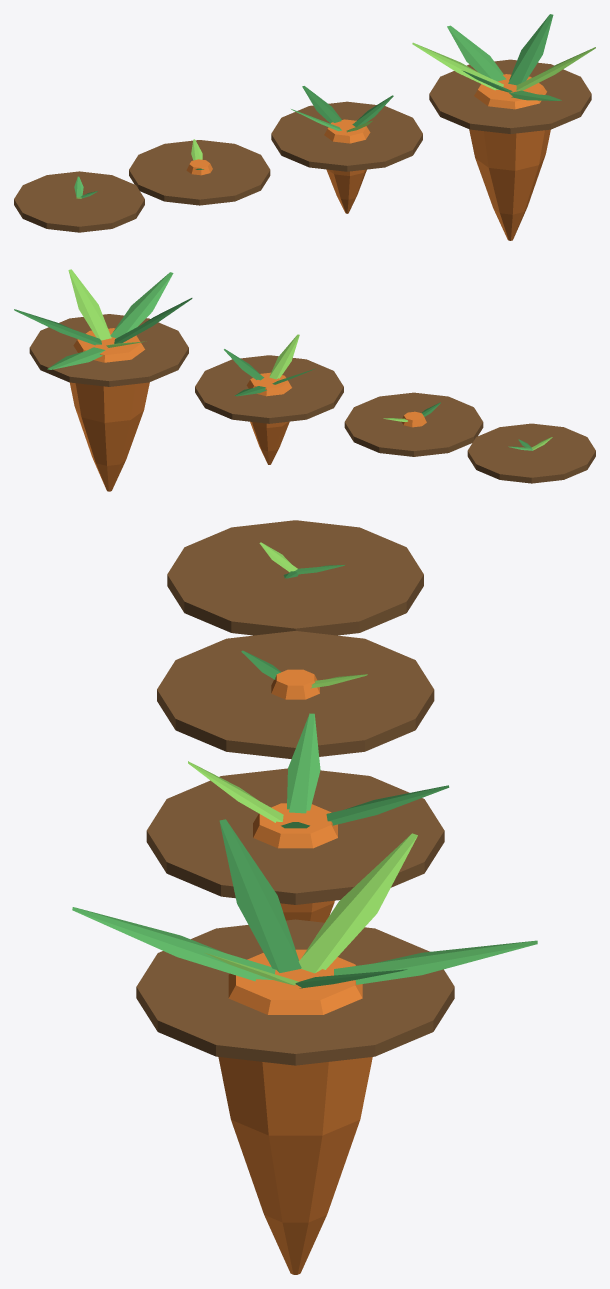
The model's file is HP3_Carrot_GrowthStages.fbx.
The picture shows the model from 3 angles, top to bottom: view 1: azimuth 30°, elevation 25°; view 2: azimuth 150°, elevation 25°; view 3: azimuth 270°, elevation 25°; orthographic projection. The views are drawn at different scales.
Visible parts, largest first — view 1: Soil_Marker_2, Soil_Marker_1, S3_Root, Soil_Marker_3, Soil_Marker_0, S2_Root, S3_Leaf_6, S3_Leaf_1, S3_Leaf_2, S3_Leaf_5, S2_Leaf_1, S3_Leaf_4 (+2 smaller); view 2: Soil_Marker_2, Soil_Marker_1, S3_Root, Soil_Marker_3, Soil_Marker_0, S2_Root, S3_Leaf_4, S3_Leaf_5, S3_Leaf_6, S3_Leaf_1, S3_Leaf_3, S2_Leaf_3 (+2 smaller); view 3: Soil_Marker_1, S3_Root, Soil_Marker_3, Soil_Marker_0, Soil_Marker_2, S3_Leaf_3, S3_Leaf_2, S2_Root, S3_Leaf_4, S3_Leaf_1, S2_Leaf_2, S2_Leaf_1 (+2 smaller).
Part boxes in pixels (x1,y1,x2,y2): Soil_Marker_2: (271,101,422,171); Soil_Marker_1: (129,140,270,205); S3_Root: (469,74,550,240); Soil_Marker_3: (429,59,591,133); Soil_Marker_0: (14,171,144,232); S2_Root: (324,119,370,213); S3_Leaf_6: (508,14,553,85); S3_Leaf_1: (447,25,506,81); S3_Leaf_2: (412,42,503,90); S3_Leaf_5: (516,47,595,90); S2_Leaf_1: (302,86,341,123); S3_Leaf_4: (509,90,561,100); Soil_Marker_2: (195,355,343,423); Soil_Marker_1: (344,392,483,456); S3_Root: (70,328,149,491); Soil_Marker_3: (29,314,188,386); Soil_Marker_0: (467,423,595,483); S2_Root: (246,372,291,464); S3_Leaf_4: (110,272,173,338); S3_Leaf_5: (68,269,111,340); S3_Leaf_6: (14,309,101,345); S3_Leaf_1: (47,347,105,369); S3_Leaf_3: (114,298,192,343); S2_Leaf_3: (269,334,299,379); Soil_Marker_1: (157,631,434,758); S3_Root: (218,949,372,1274); Soil_Marker_3: (136,919,454,1065); Soil_Marker_0: (167,520,423,635); Soil_Marker_2: (146,768,444,904); S3_Leaf_3: (219,819,301,972); S3_Leaf_2: (298,833,417,973); S2_Root: (253,803,337,922); S3_Leaf_4: (72,907,275,981); S3_Leaf_1: (334,940,537,984); S2_Leaf_2: (287,713,320,813); S2_Leaf_1: (326,785,449,825).
Bounding box in the file's own units: 246 × 83.72 × 90.65.
